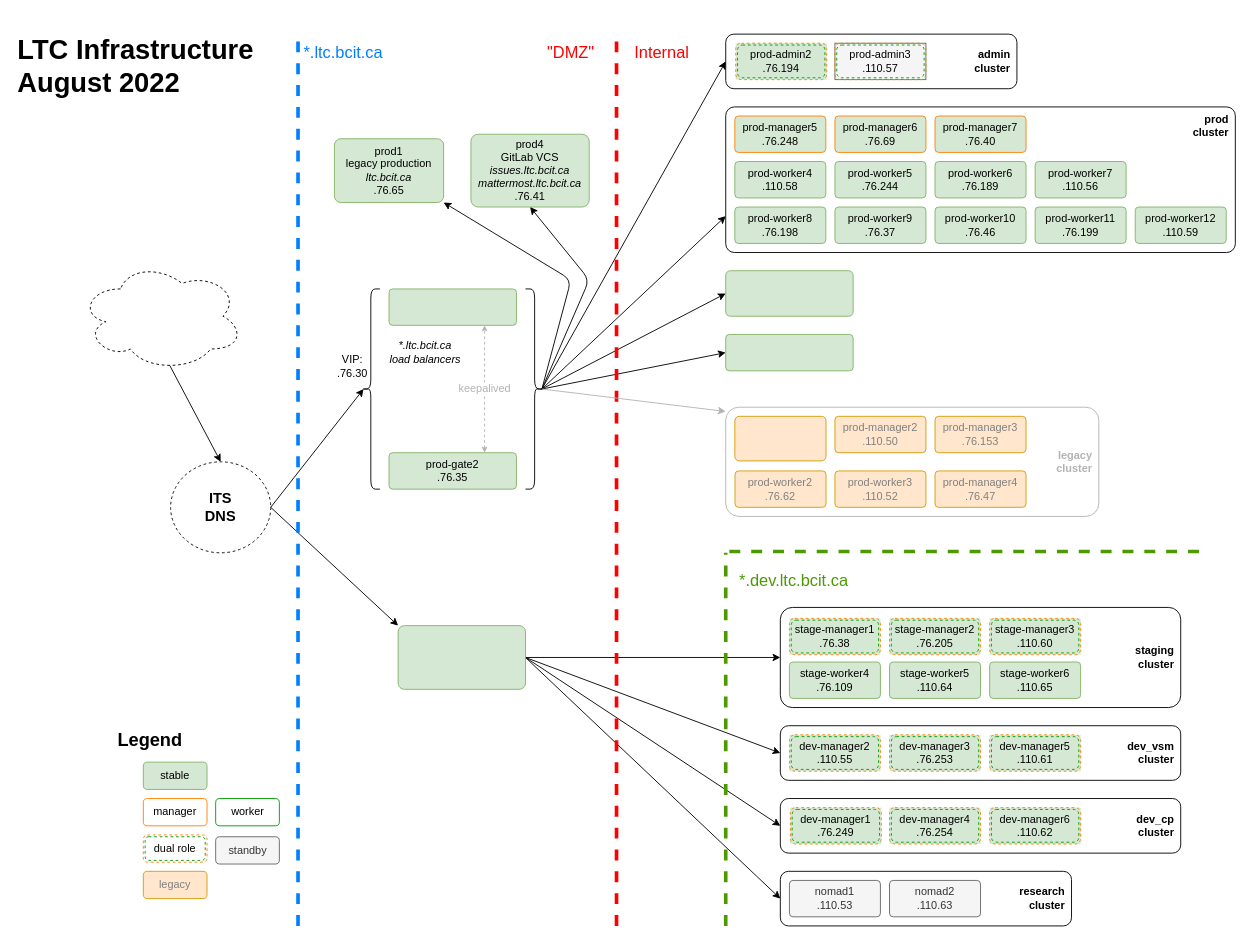
The diagram is 1251 pixels wide and 944 high, and some of its shapes have lost their labels. The shapes that lost their labels are listed below. From the top down, each one's centre as x and y in pixels, then its label:
point 452,306: prod-gate1 .76.186
point 789,293: vault1 vault.ltc.bcit.ca .76.63
point 161,316: Internet
point 789,352: utility1 .110.66
point 780,438: prod-admin1 rancher.ltc.bcit.ca .110.51
point 461,657: dev-gate3 *.dev.ltc.bcit.ca load balancer .110.54
